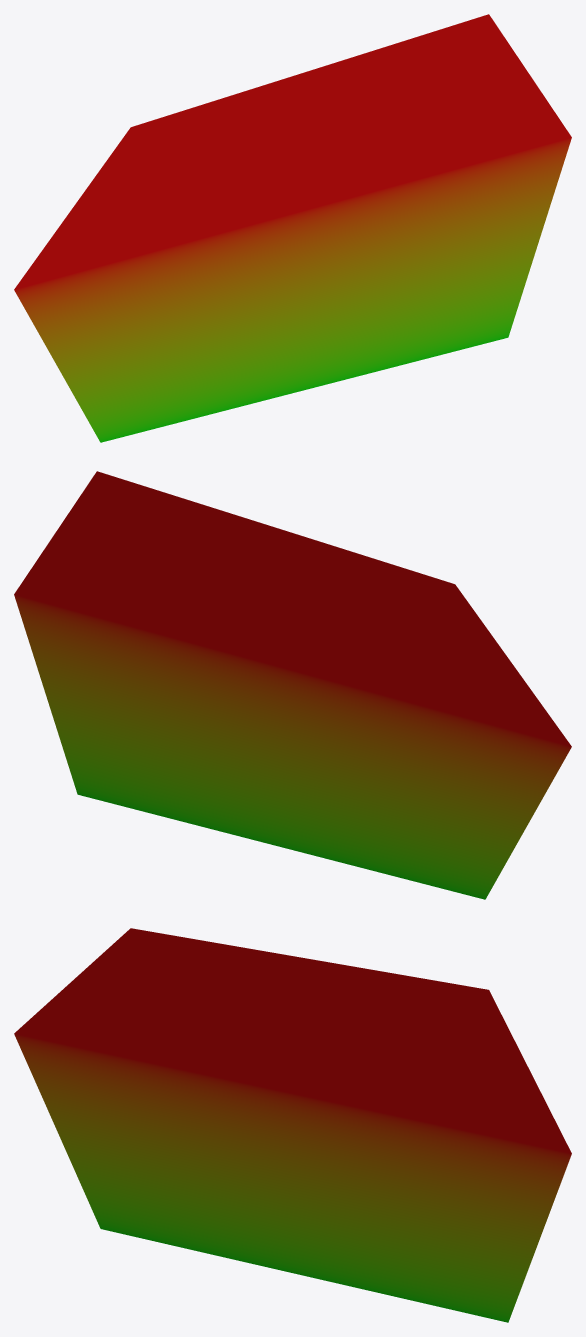
File: Desert Cotton_LOD6_Var4_xeogciyqx.fbx
3 views of the same model, one above another, from view 1: azimuth 30°, elevation 25°; view 2: azimuth 150°, elevation 25°; view 3: azimuth 330°, elevation 25° (orthographic).
Parts seen in each view (by area): view 1: _f7uz_Var4_LOD6; view 2: _f7uz_Var4_LOD6; view 3: _f7uz_Var4_LOD6.
Part boxes in pixels (x1,y1,x2,y2): _f7uz_Var4_LOD6: (14,14,571,442); _f7uz_Var4_LOD6: (14,471,571,899); _f7uz_Var4_LOD6: (14,928,571,1322).
Bounding box in the file's own units: 91.77 × 52.47 × 8.55e-06.
